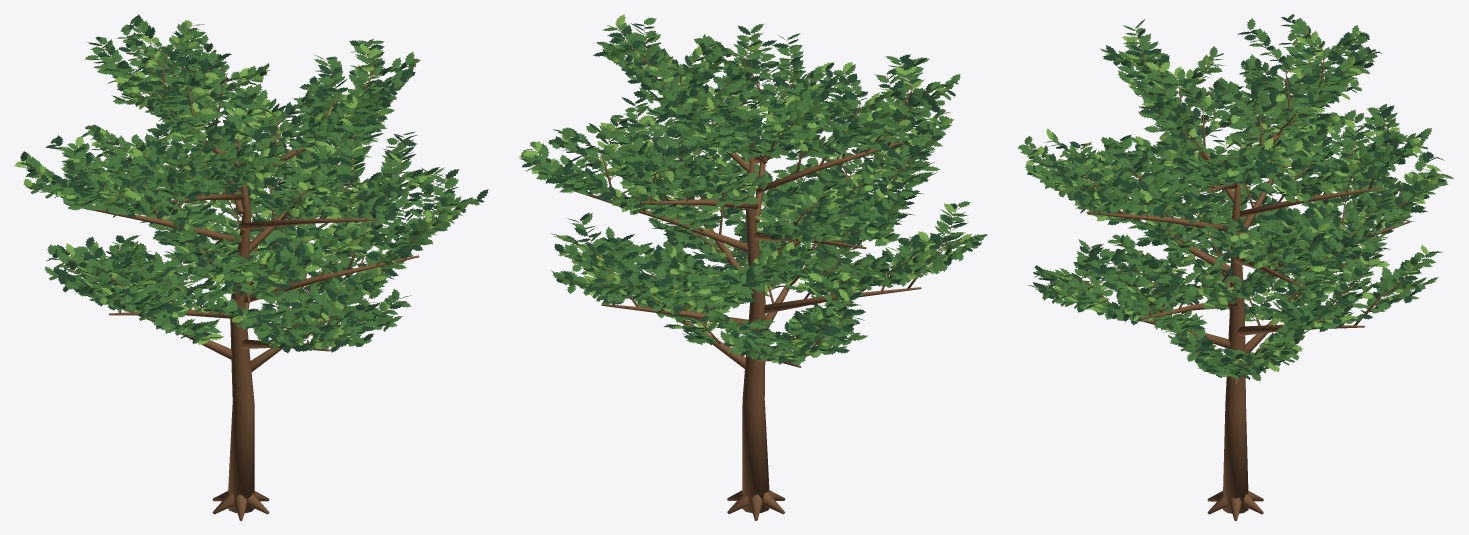
File: coherentOak.glb
3 renders of one model, left to right at view 1: azimuth 30°, elevation 25°; view 2: azimuth 150°, elevation 25°; view 3: azimuth 270°, elevation 25°, orthographic. The views are drawn at different scales.
Parts seen in each view (by area): view 1: foliage-medium, foliage-deep, Leaf twig, foliage-light; view 2: foliage-medium, foliage-deep, Leaf twig, foliage-light; view 3: foliage-medium, foliage-deep, Leaf twig, foliage-light.
Boxes of the visible parts, x1,y1,x2,y2 form: foliage-medium: (20, 17, 479, 350); foliage-deep: (20, 14, 488, 353); Leaf twig: (22, 23, 475, 520); foliage-light: (14, 20, 461, 348); foliage-medium: (518, 17, 987, 365); foliage-deep: (521, 23, 981, 362); Leaf twig: (530, 22, 979, 520); foliage-light: (520, 14, 971, 363); foliage-medium: (1017, 14, 1453, 381); foliage-deep: (1028, 17, 1446, 379); Leaf twig: (1026, 19, 1440, 520); foliage-light: (1026, 21, 1443, 376).
Bounding box in the file's own units: 7.76 × 8.61 × 7.64.
